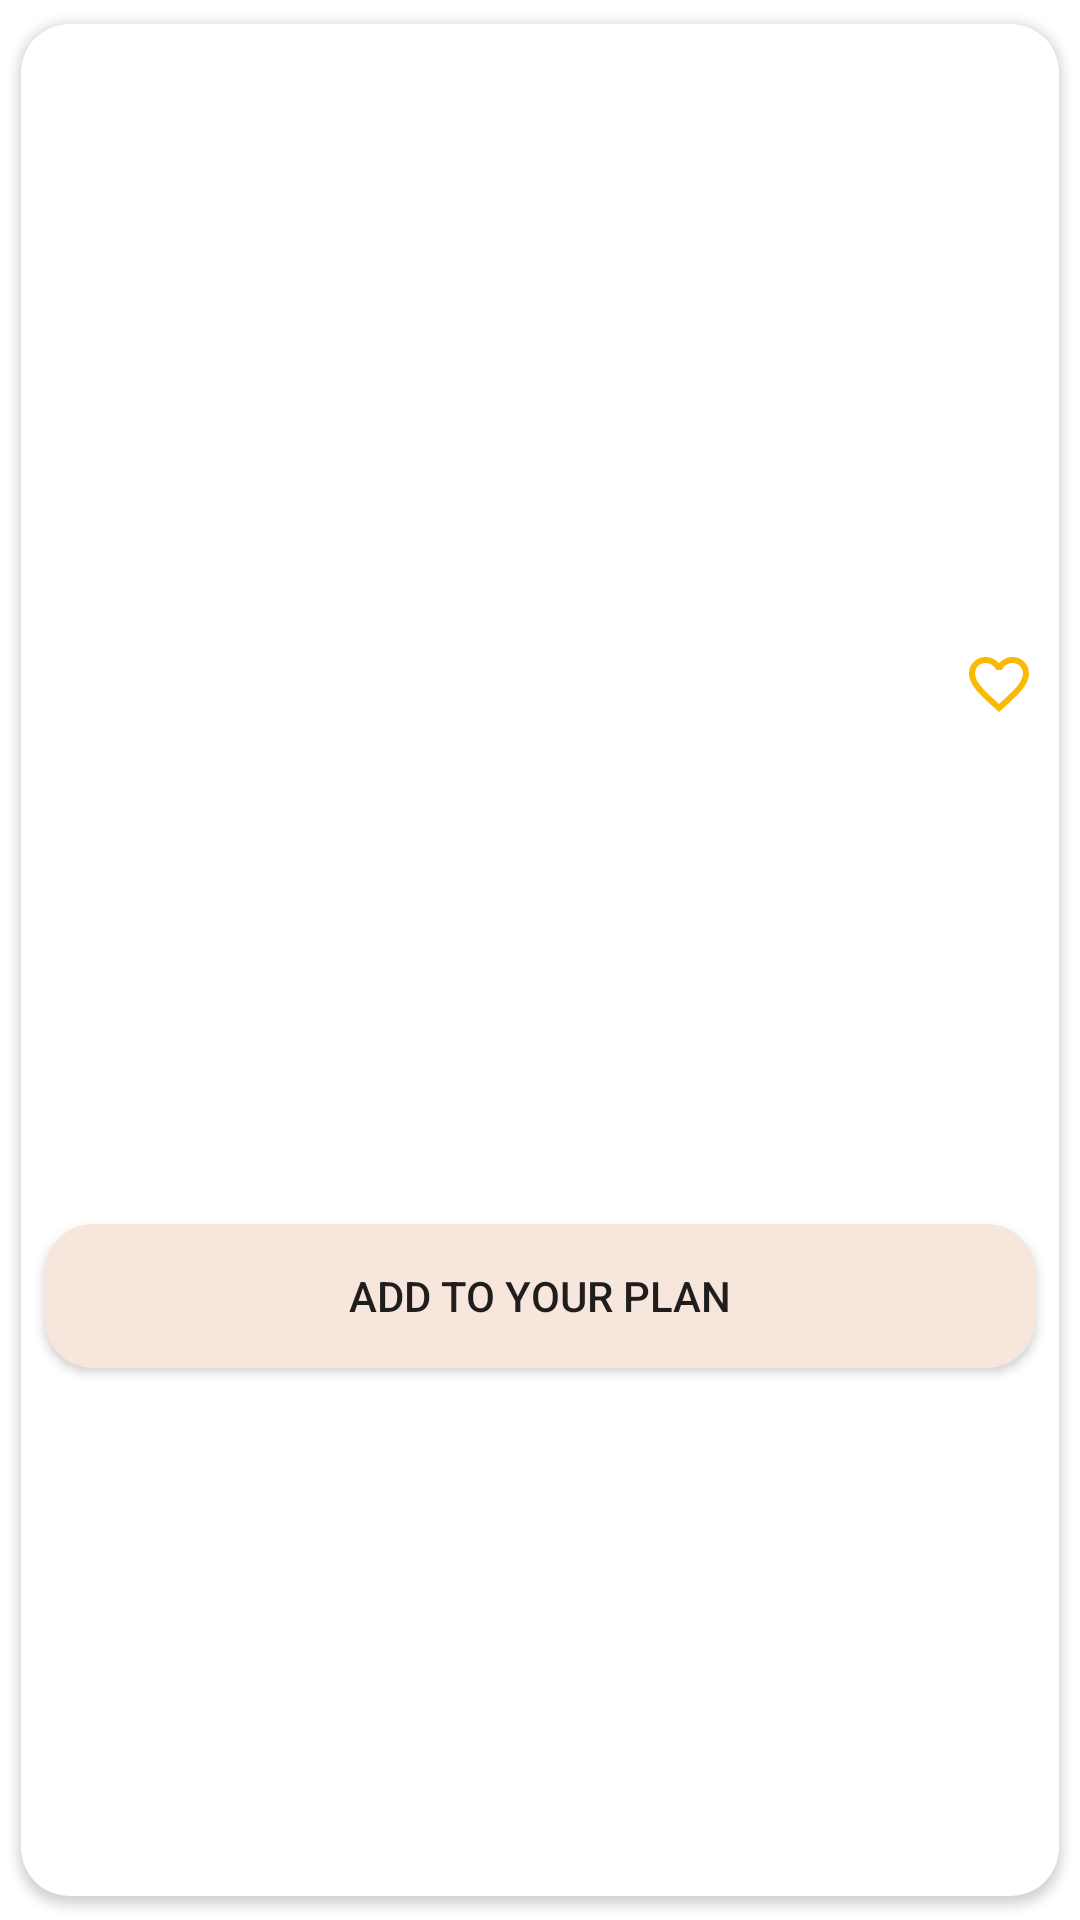

Icons on this 1080px x 1920px Android screen, each with its box as (x1, y1, x2, y2):
favorite border: (969, 657, 1029, 712)
